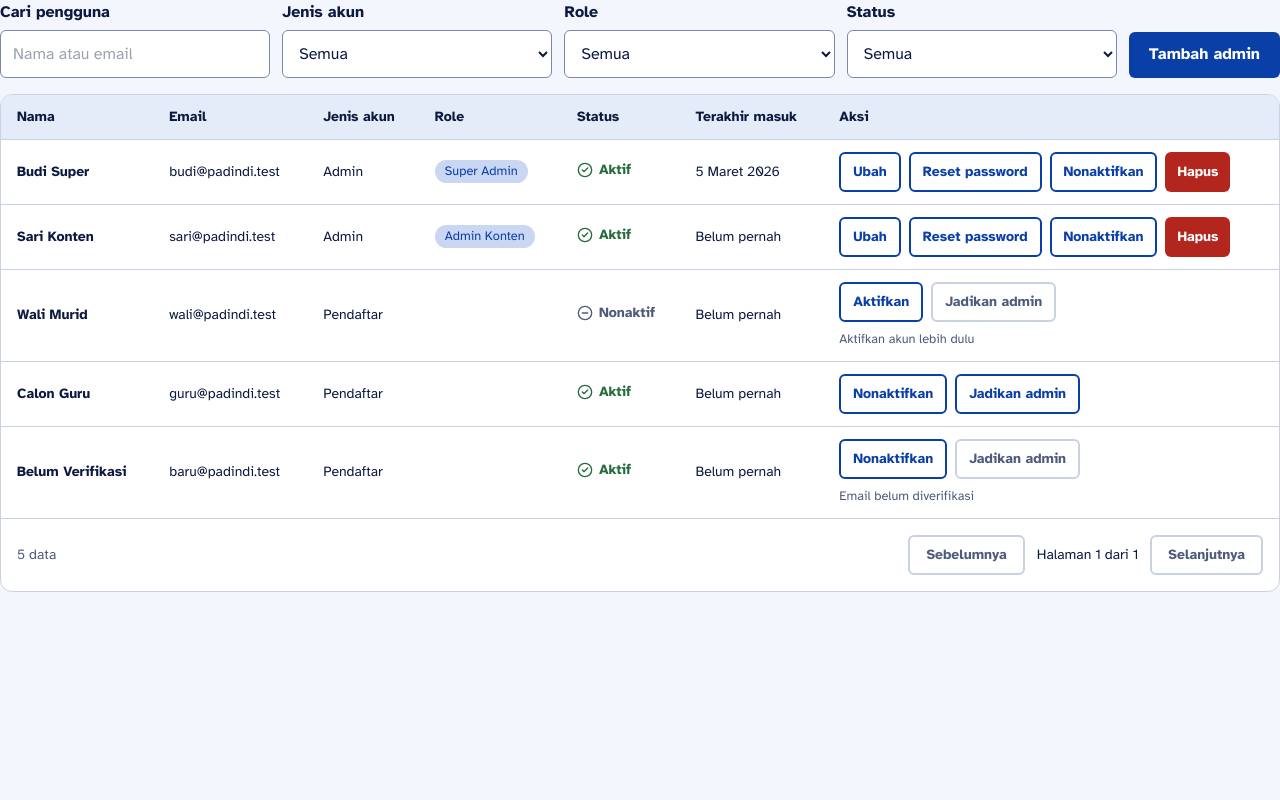
Test: UsersTab — aksi per baris › Reset password dikonfirmasi: POST lalu pesan status tampil di halaman
Step 1. Click the button "Reset password" in the row of "Sari Konten" → coordinates (975, 237), box x1=909 y1=217 x2=1042 y2=257
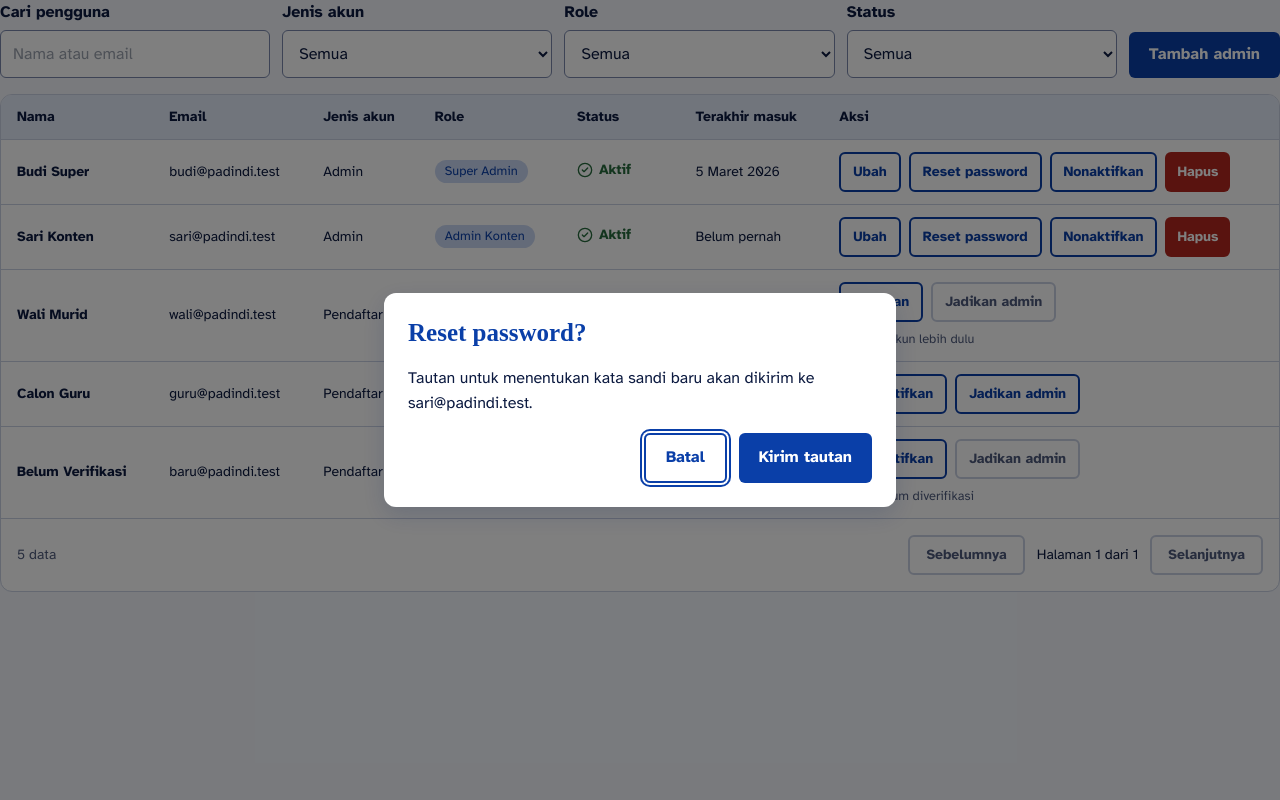
Step 2. Click the button "Kirim tautan" → coordinates (805, 458), box x1=739 y1=433 x2=872 y2=483
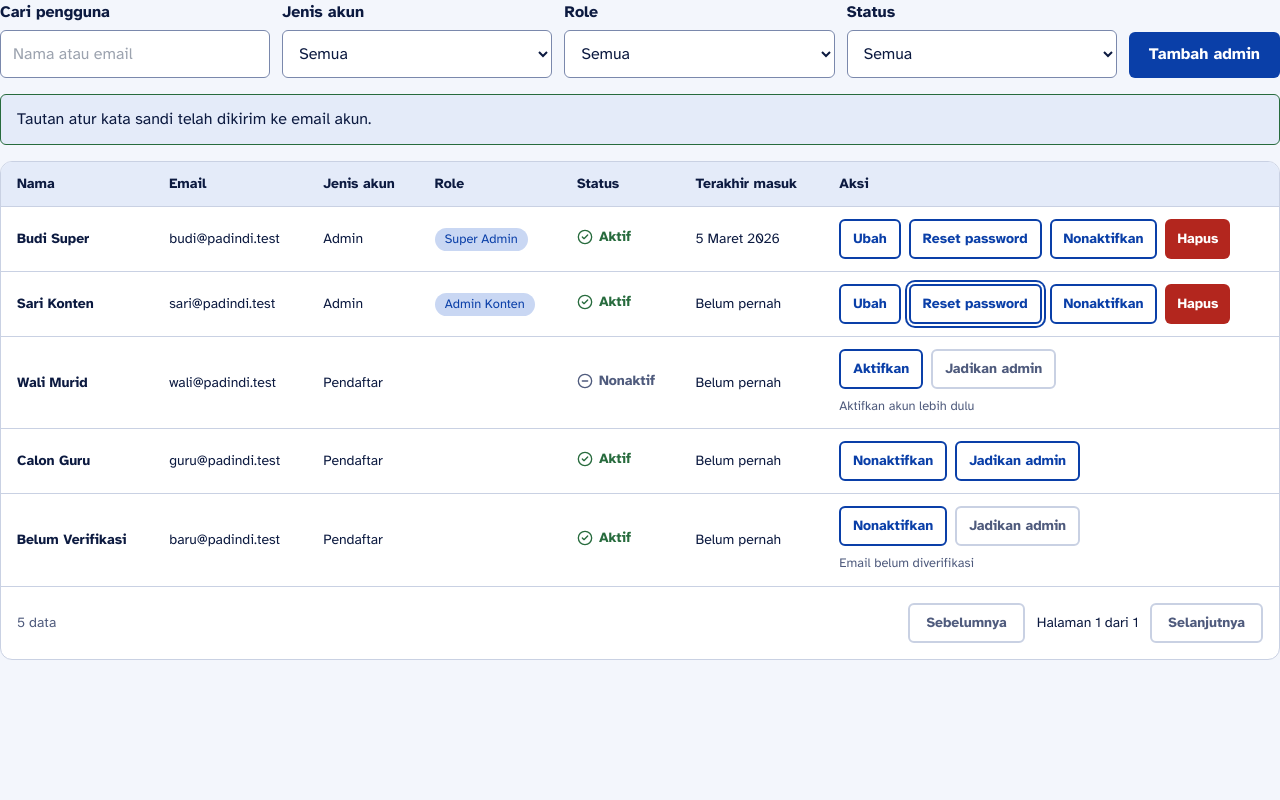
Expected: the message shows "Tautan atur kata sandi telah dikirim", x1=17 y1=109 x2=371 y2=129
